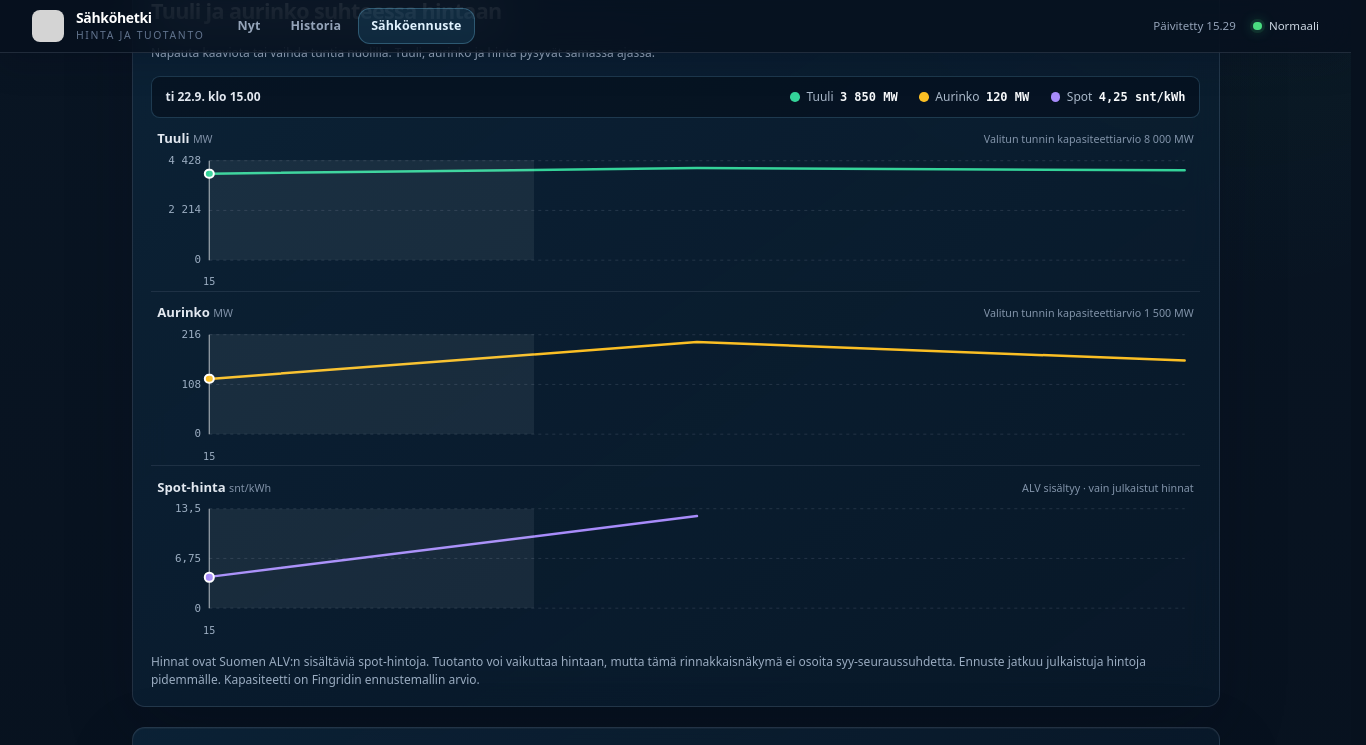
it: ForecastExplorer › compares matching wind, solar and spot hours through chart selection
The image size is (1366, 745).
(page scrolled)
What coordinates should you click on to do the following:
click the button named "Valitse aurinko ti 22.9. klo 16.00, 200 MW"
I would click on:
 (697, 384)
Its box is [534,334,859,434].
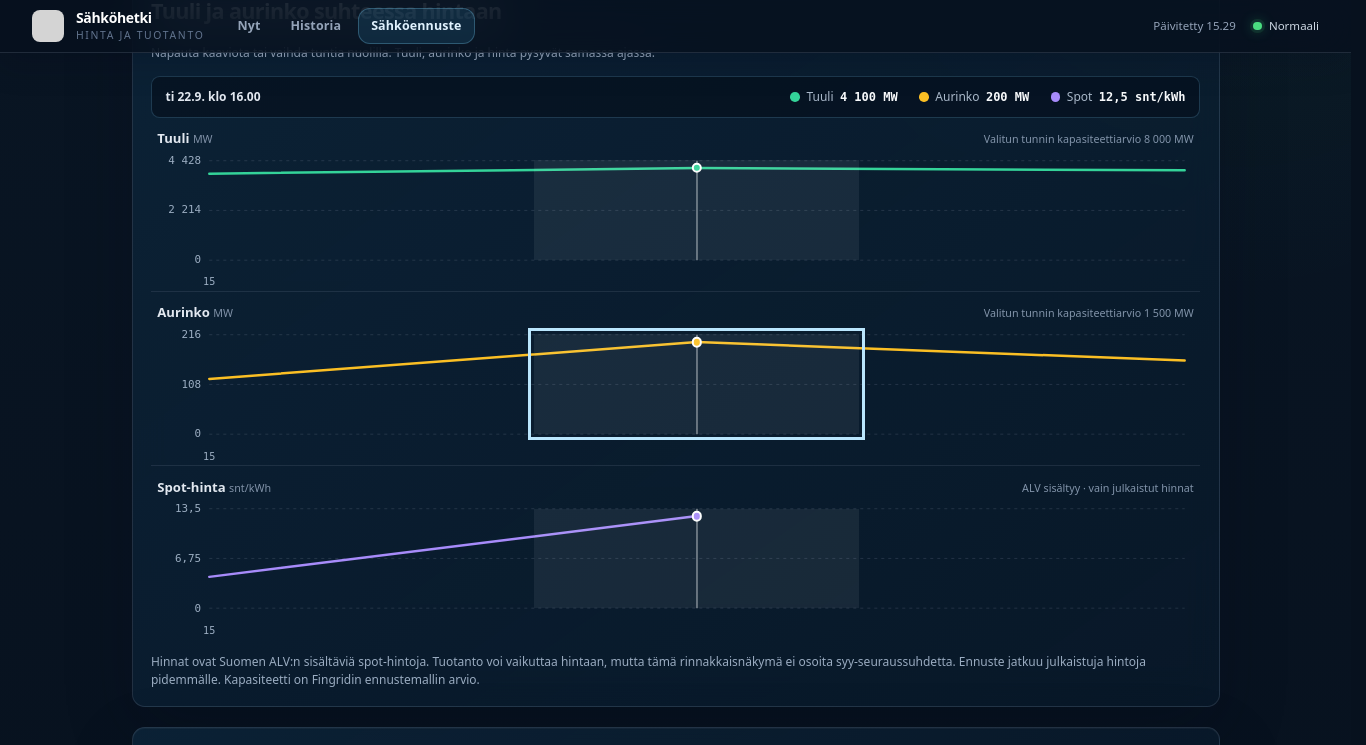
Now the text "12,5 snt/kWh" is shown, box [1099,88,1186,106]
Now the text "4 100 MW" is shown, box [840,88,898,106]
Now the text "200 MW" is shown, box [986,88,1029,106]
What coordinates should you click on to do the following:
click the button named "Valitse spot-hinta ti 22.9. klo 17.00, Ei saatavilla"
I would click on:
 (1022, 559)
Its box is [859,509,1184,608].
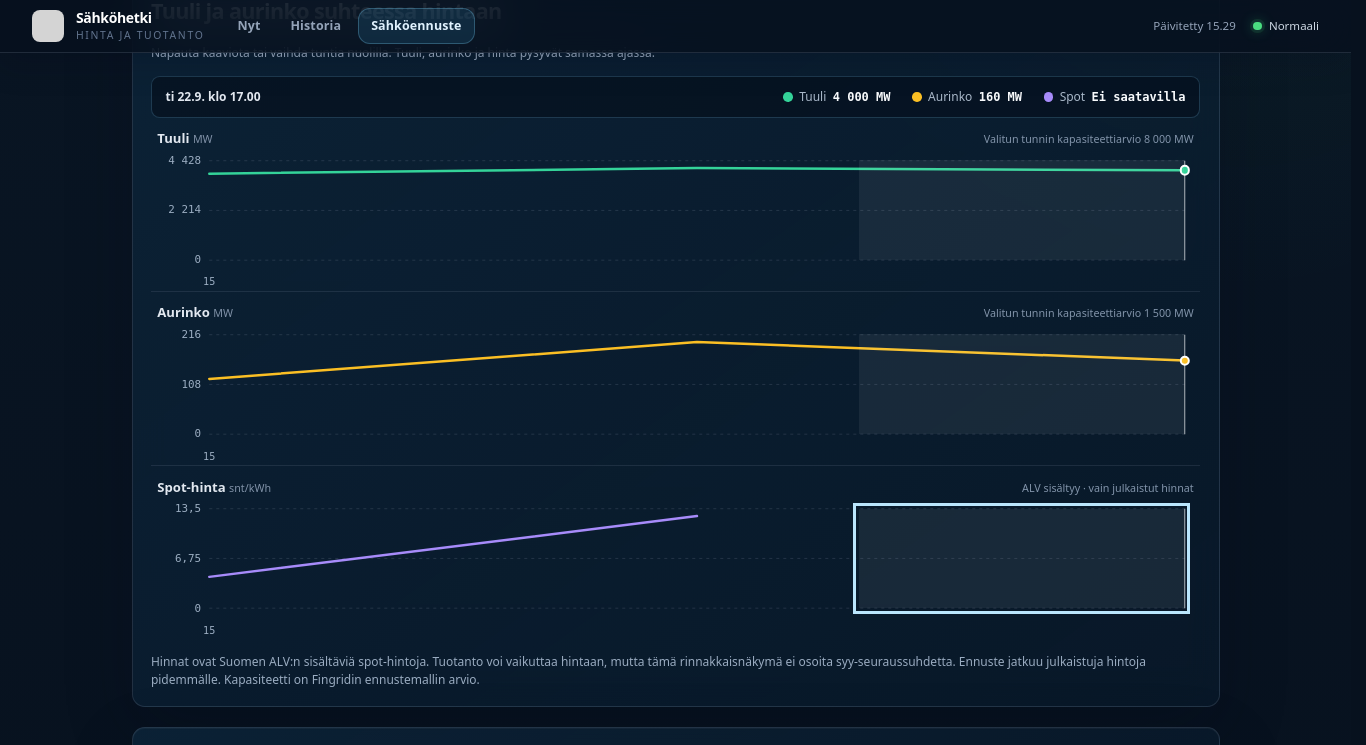
Now the text "Ei saatavilla" is shown, box [1092,88,1186,106]
